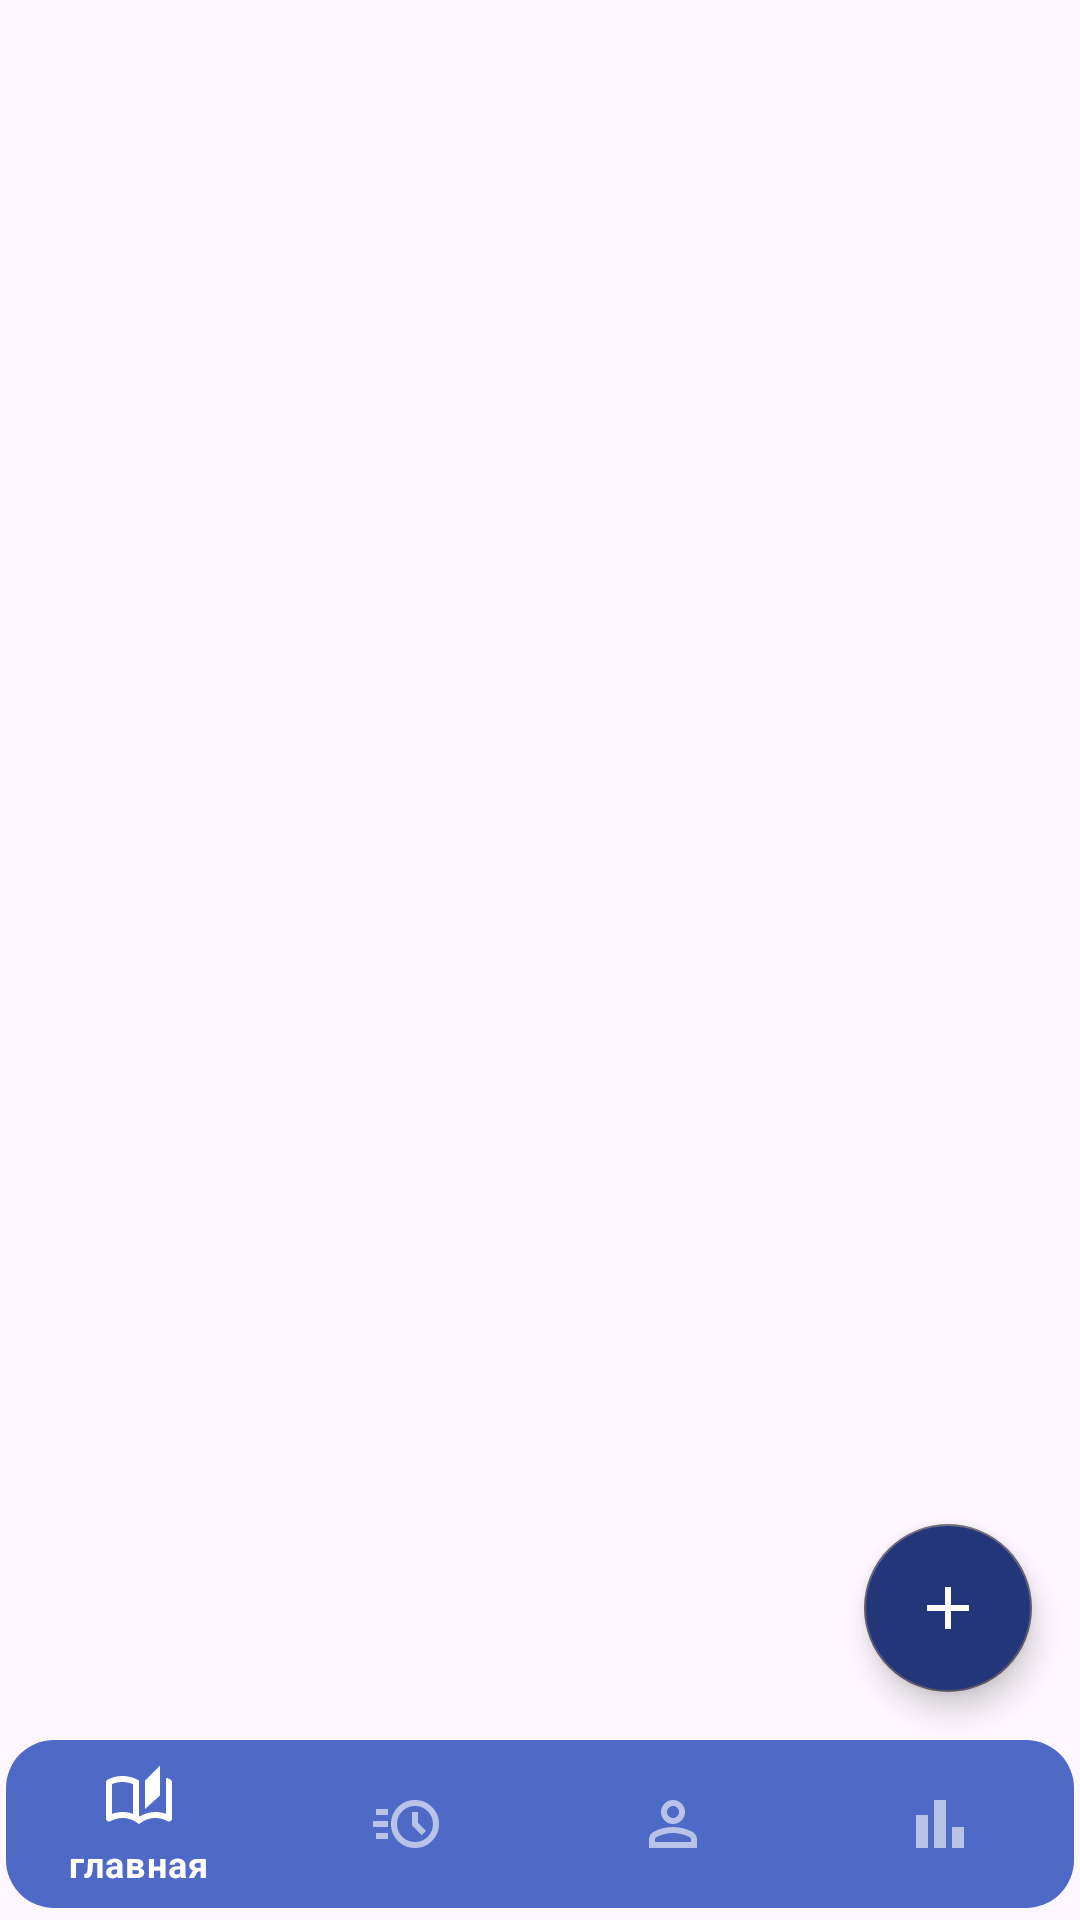

Where to tap for icons on this 1080×1920 app screen, as point (x, y):
fab: point (948, 1608)
